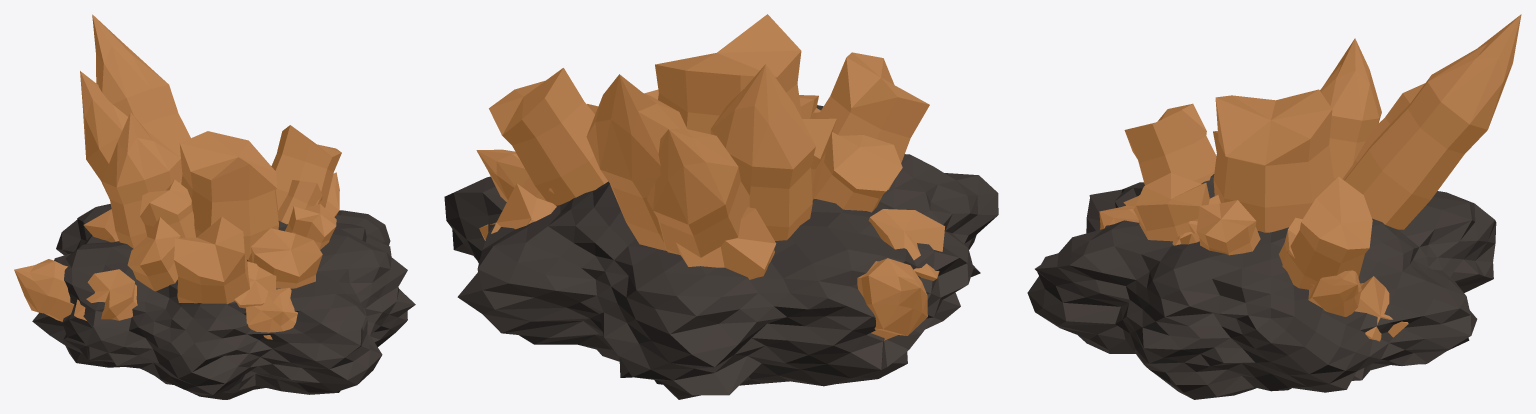
Rendered from wb_crystal_core_broken.glb.
The picture shows the model from 3 angles, left to right: view 1: azimuth 30°, elevation 25°; view 2: azimuth 150°, elevation 25°; view 3: azimuth 270°, elevation 25°; orthographic projection. The views are drawn at different scales.
Visible parts, largest first — view 1: wb_crystal_core_broken; view 2: wb_crystal_core_broken; view 3: wb_crystal_core_broken.
Boxes of the visible parts, box(x1,y1,x2,y2) form: wb_crystal_core_broken: box(14, 14, 415, 399); wb_crystal_core_broken: box(444, 14, 998, 399); wb_crystal_core_broken: box(1027, 14, 1521, 399).
Size of the model in its own units: 2 by 1.49 by 2.07.
